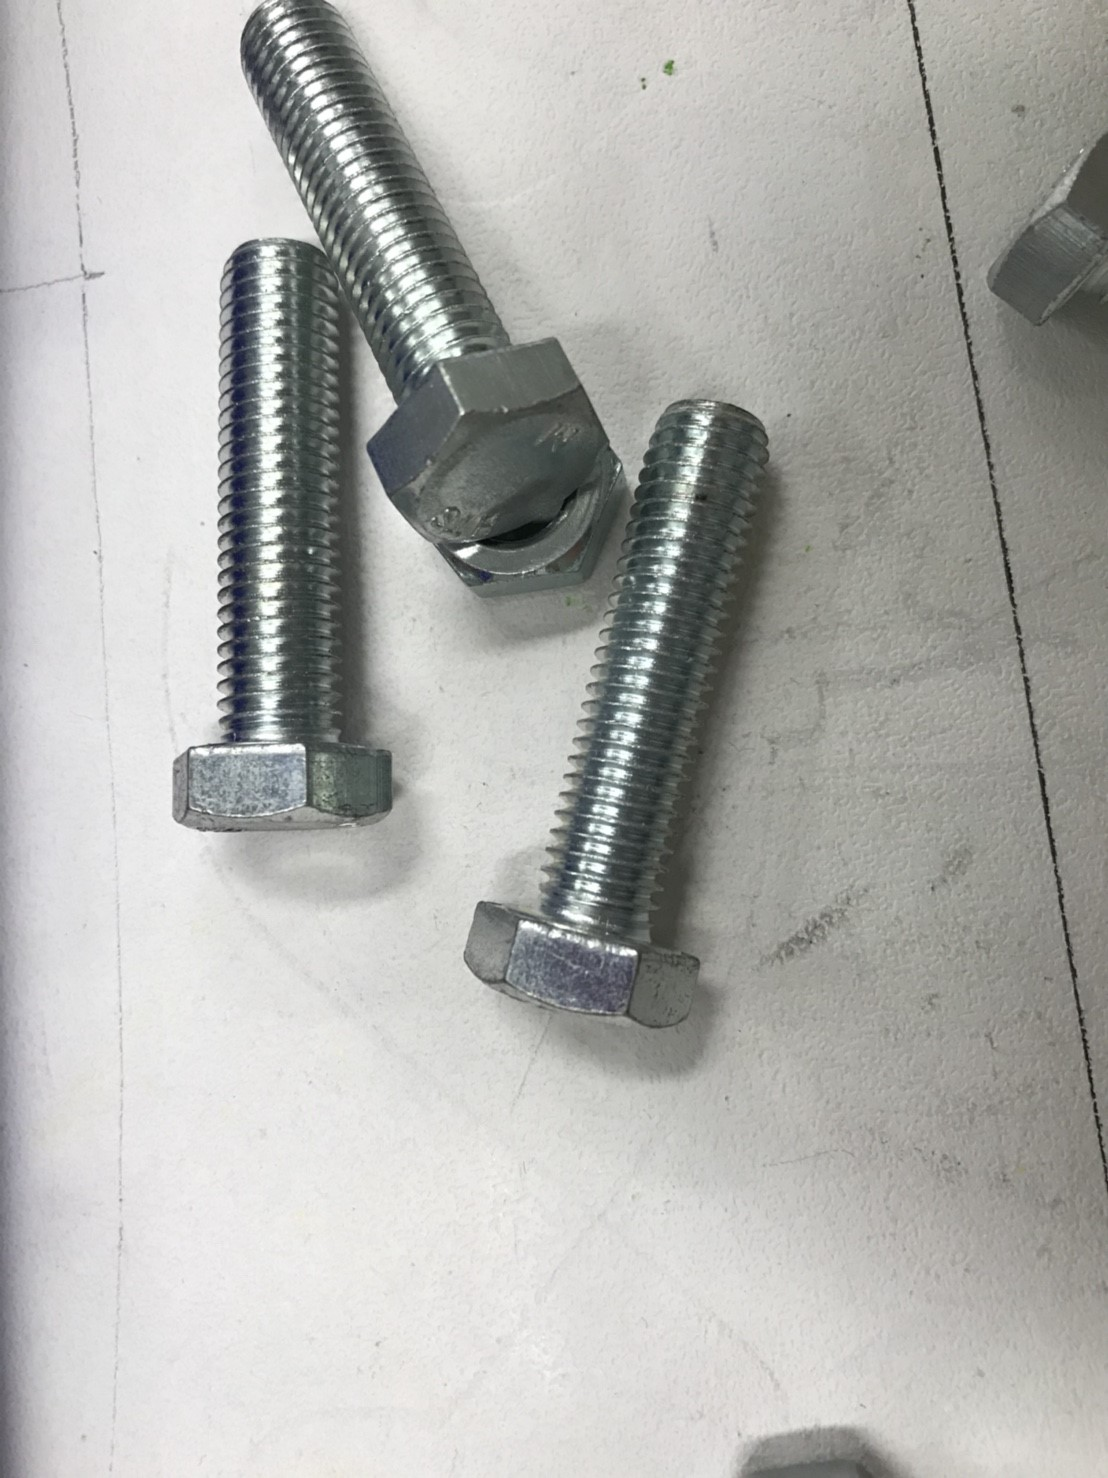screw: (468, 395, 810, 1078), (219, 1, 613, 553), (170, 239, 400, 843)
